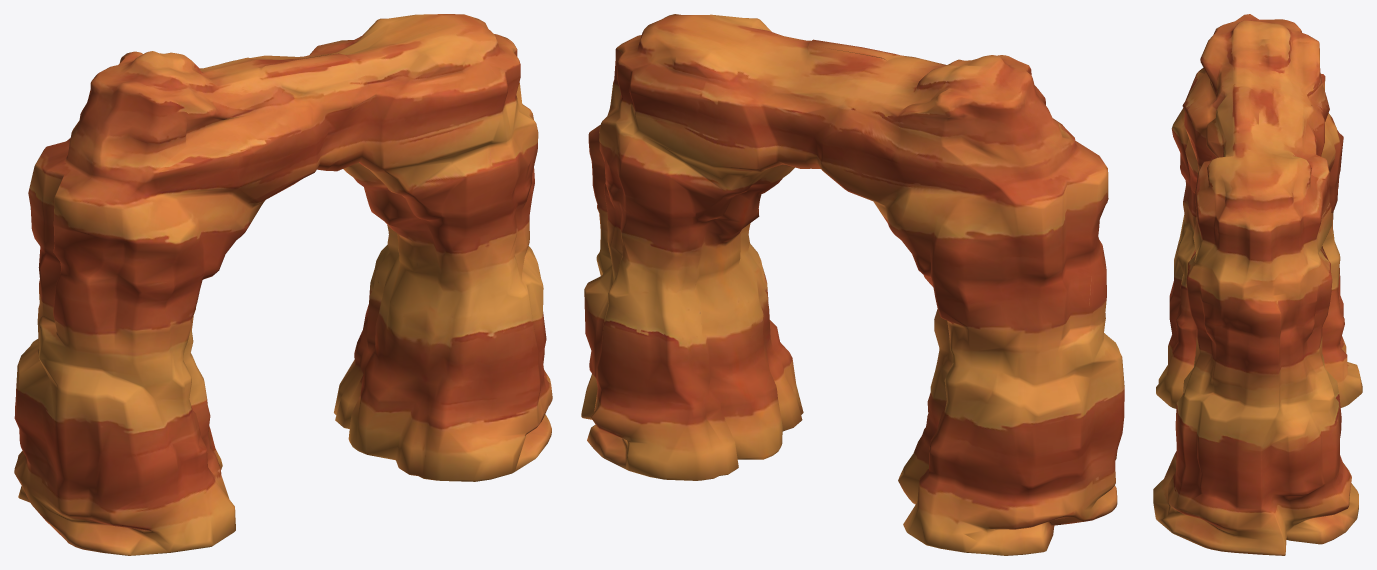
Rendered from SM_Tripo_DesertRockArch.glb.
3 renders of one model, left to right at view 1: azimuth 30°, elevation 25°; view 2: azimuth 150°, elevation 25°; view 3: azimuth 270°, elevation 25°, orthographic. The views are drawn at different scales.
Parts seen in each view (by area): view 1: SM_Tripo_DesertRockArch_LOD0; view 2: SM_Tripo_DesertRockArch_LOD0; view 3: SM_Tripo_DesertRockArch_LOD0.
Boxes of the visible parts, x1=… form: SM_Tripo_DesertRockArch_LOD0: x1=14, y1=14, x2=552, y2=555; SM_Tripo_DesertRockArch_LOD0: x1=581, y1=14, x2=1124, y2=555; SM_Tripo_DesertRockArch_LOD0: x1=1153, y1=14, x2=1362, y2=555.
Bounding box in the file's own units: 15.68 × 13 × 6.61.
1 material, 1 textured.
